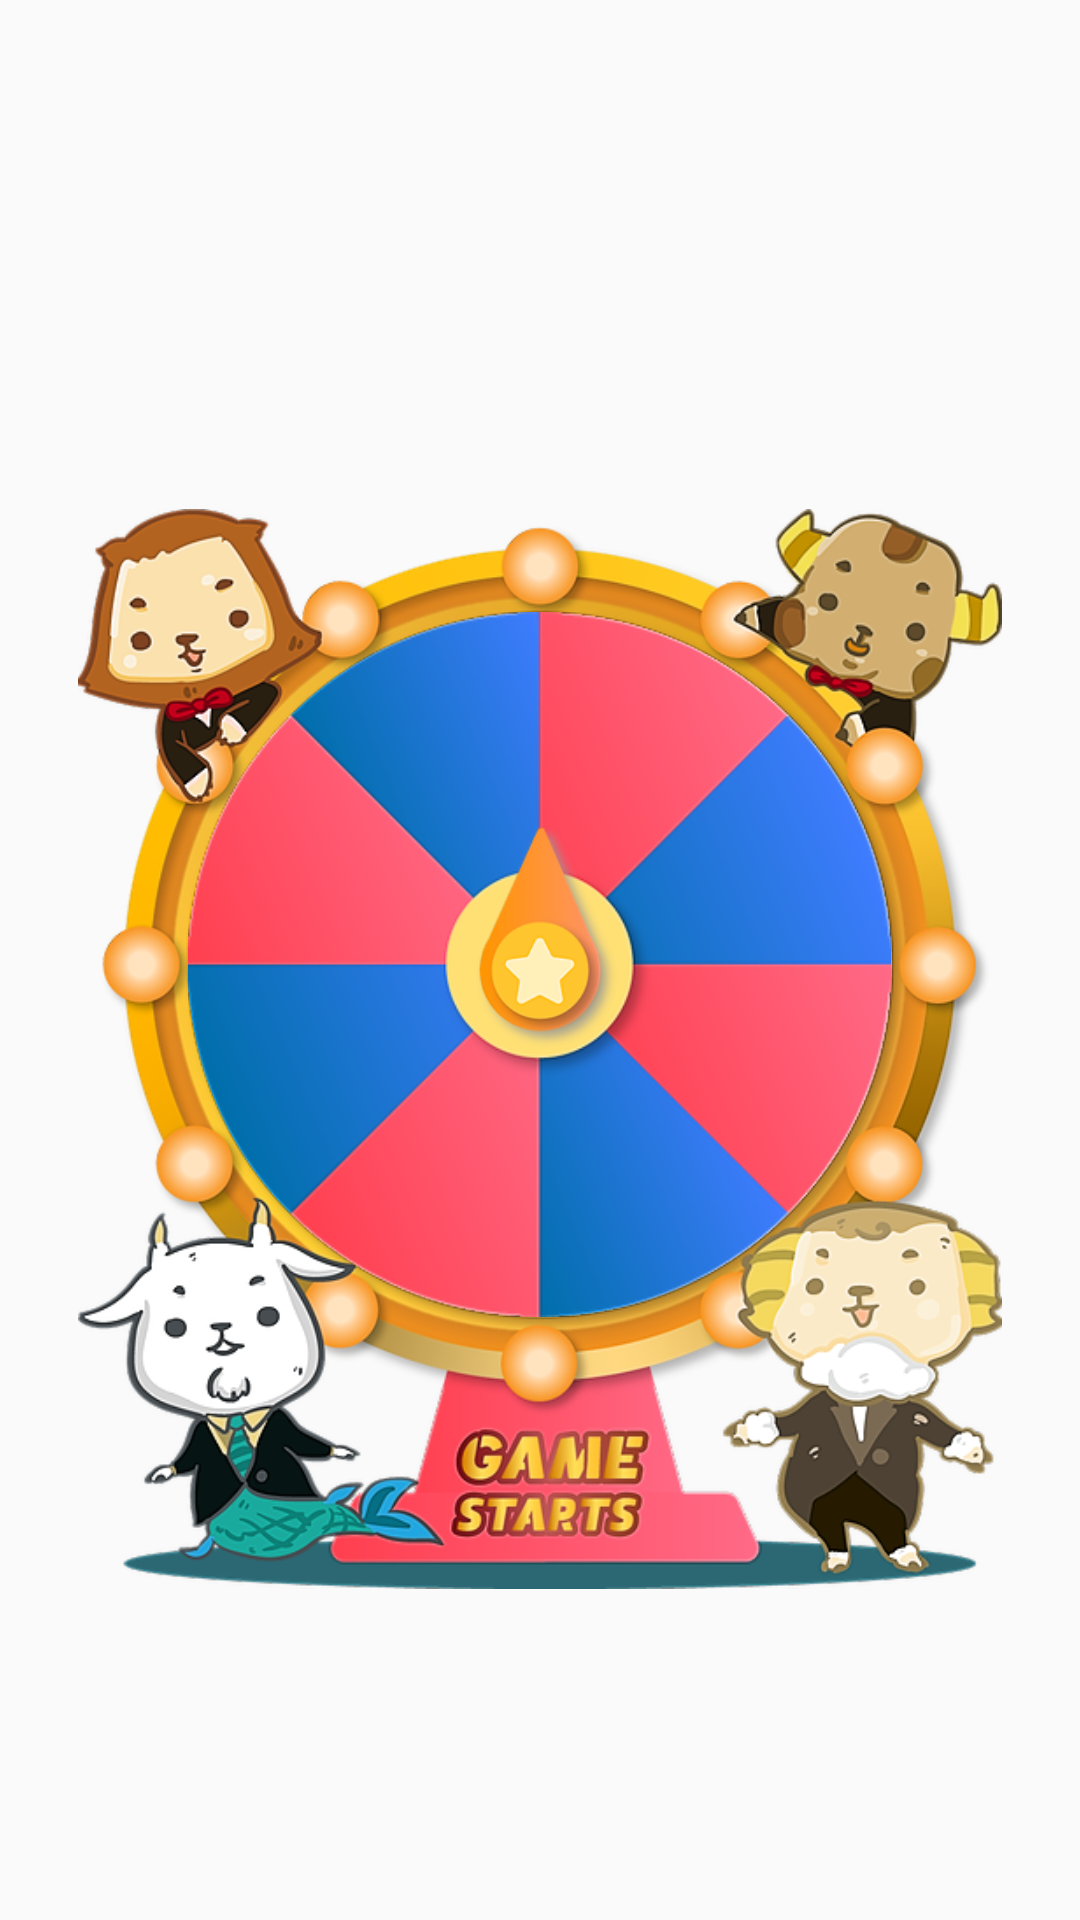

Screen size 1080w x 1920h. Icon name, then its center in pixels as point (x, y):
turntable pointer: point (540, 968)
